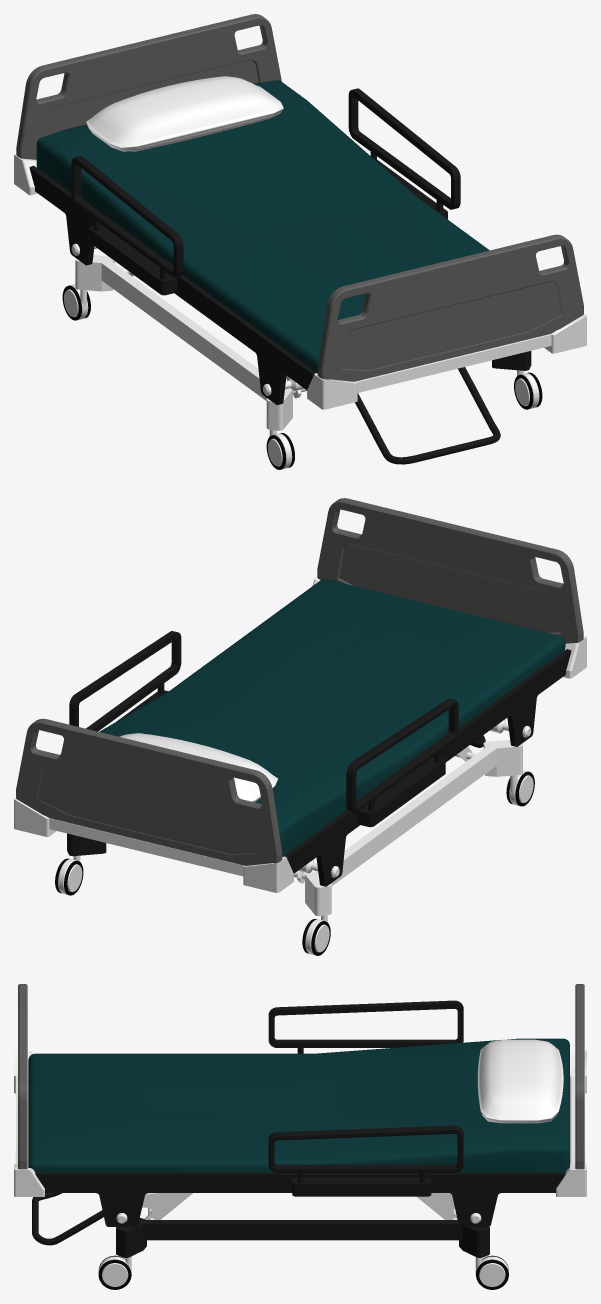
File: HospitalBed.FBX
3 renders of one model, top to bottom at view 1: azimuth 30°, elevation 25°; view 2: azimuth 150°, elevation 25°; view 3: azimuth 270°, elevation 25°, orthographic. The views are drawn at different scales.
Parts seen in each view (by area): view 1: Bed; view 2: Bed; view 3: Bed.
Part boxes in pixels (<box>): Bed: <box>14,14,586,469</box>; Bed: <box>14,498,586,955</box>; Bed: <box>14,984,586,1289</box>.
Bounding box in the file's own units: 1.06 × 1.98 × 0.7508.
